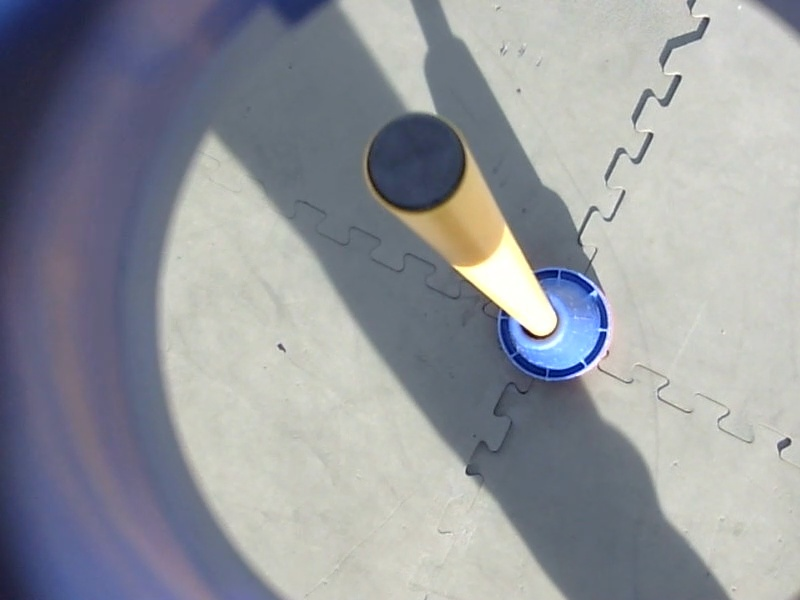tip: (358, 108, 475, 221)
